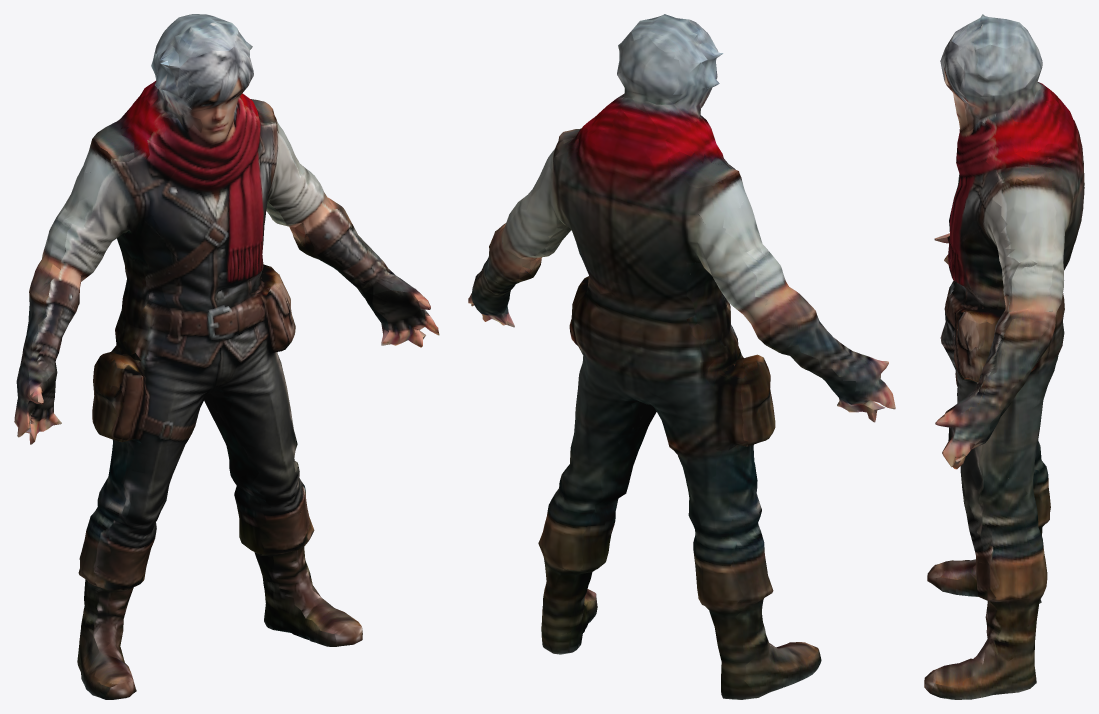
Rendered from swiftblade.fbx.
The picture shows the model from 3 angles, left to right: view 1: azimuth 30°, elevation 25°; view 2: azimuth 150°, elevation 25°; view 3: azimuth 270°, elevation 25°; orthographic projection. The views are drawn at different scales.
Parts seen in each view (by area): view 1: geometry_0; view 2: geometry_0; view 3: geometry_0.
Boxes of the visible parts, bbox=[...] form: geometry_0: bbox=[14, 14, 439, 699]; geometry_0: bbox=[468, 14, 895, 699]; geometry_0: bbox=[924, 14, 1084, 699].
Bounding box in the file's own units: 65.57 × 95.18 × 22.2.
1 material, 1 textured.
